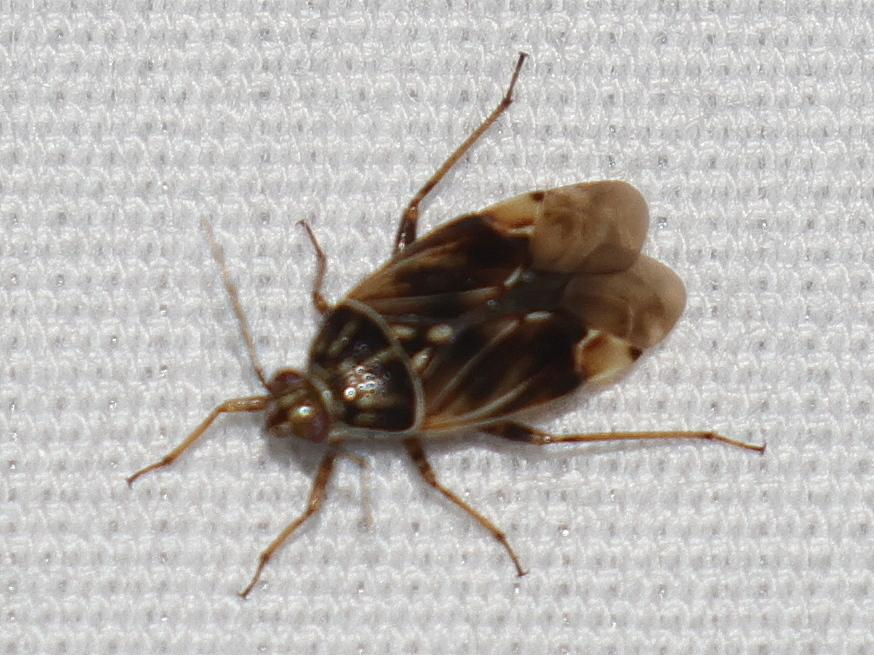plant_bugs: (54, 0, 818, 632)
